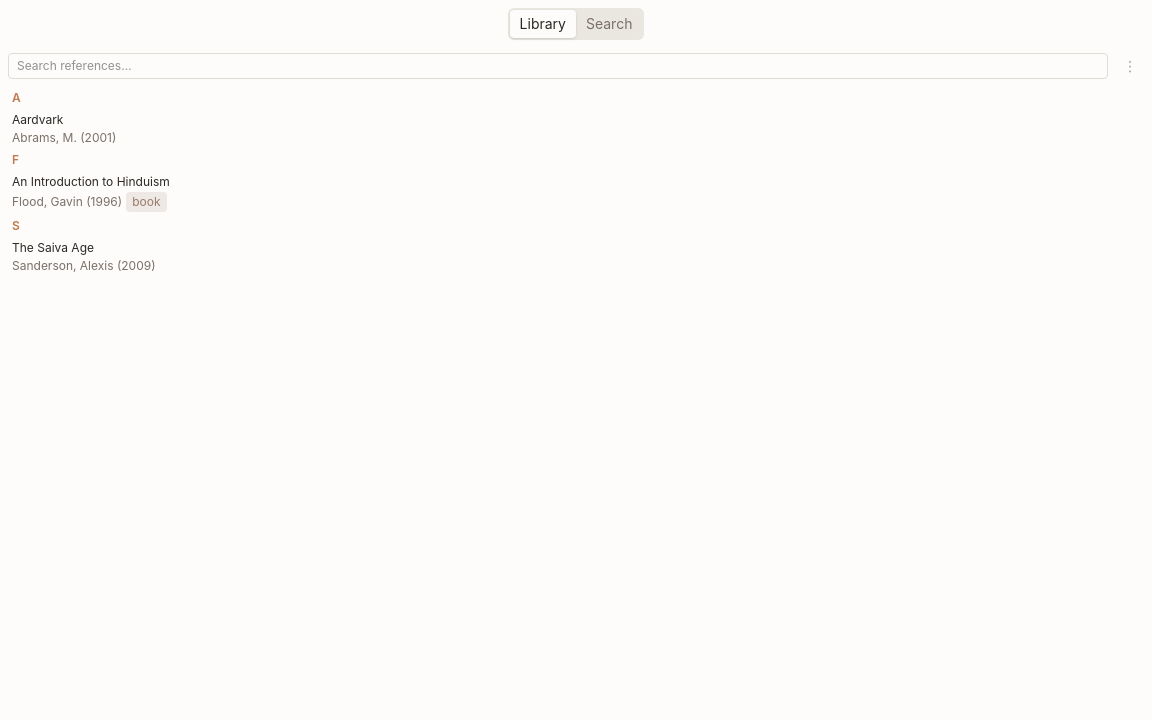
Test: ReferenceLibrary › clicking an entry expands its metadata card
The image size is (1152, 720).
Click the text "The Saiva Age" at (53, 248), box [12, 240, 94, 255]
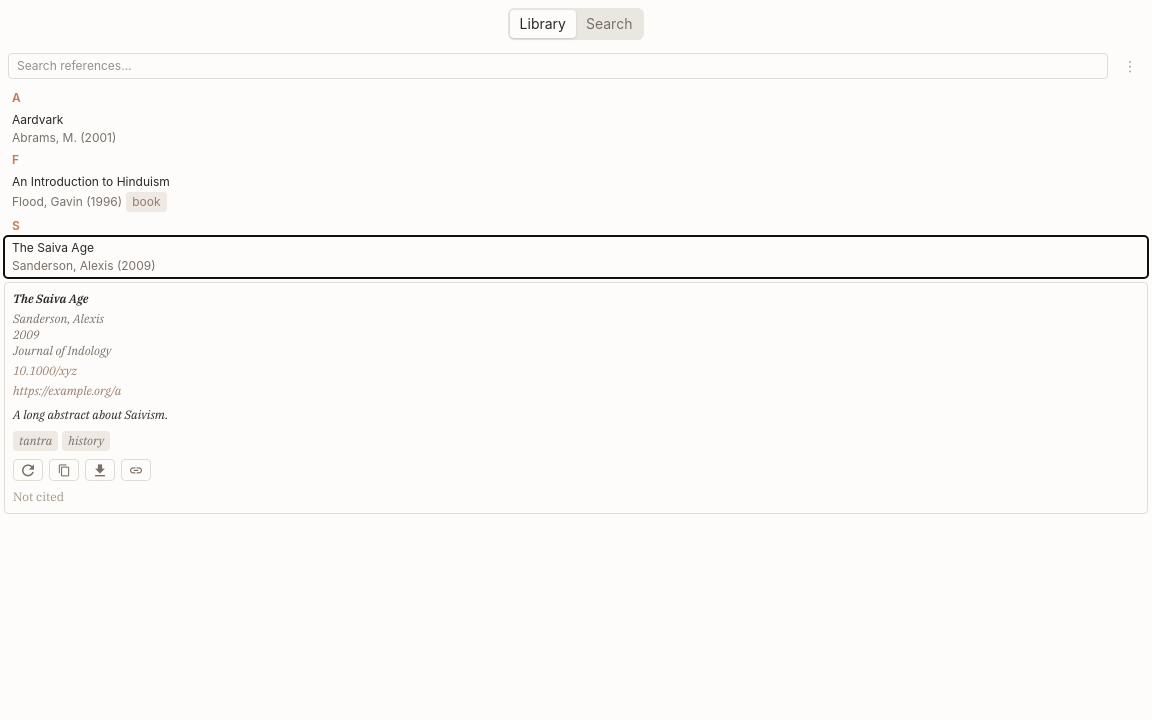
expect the text "Journal of Indology" is shown: met, box [13, 343, 111, 358]
expect the text "A long abstract about Saivism." is shown: met, box [13, 407, 168, 422]
expect the text "tantra" is shown: met, box [13, 431, 58, 451]
